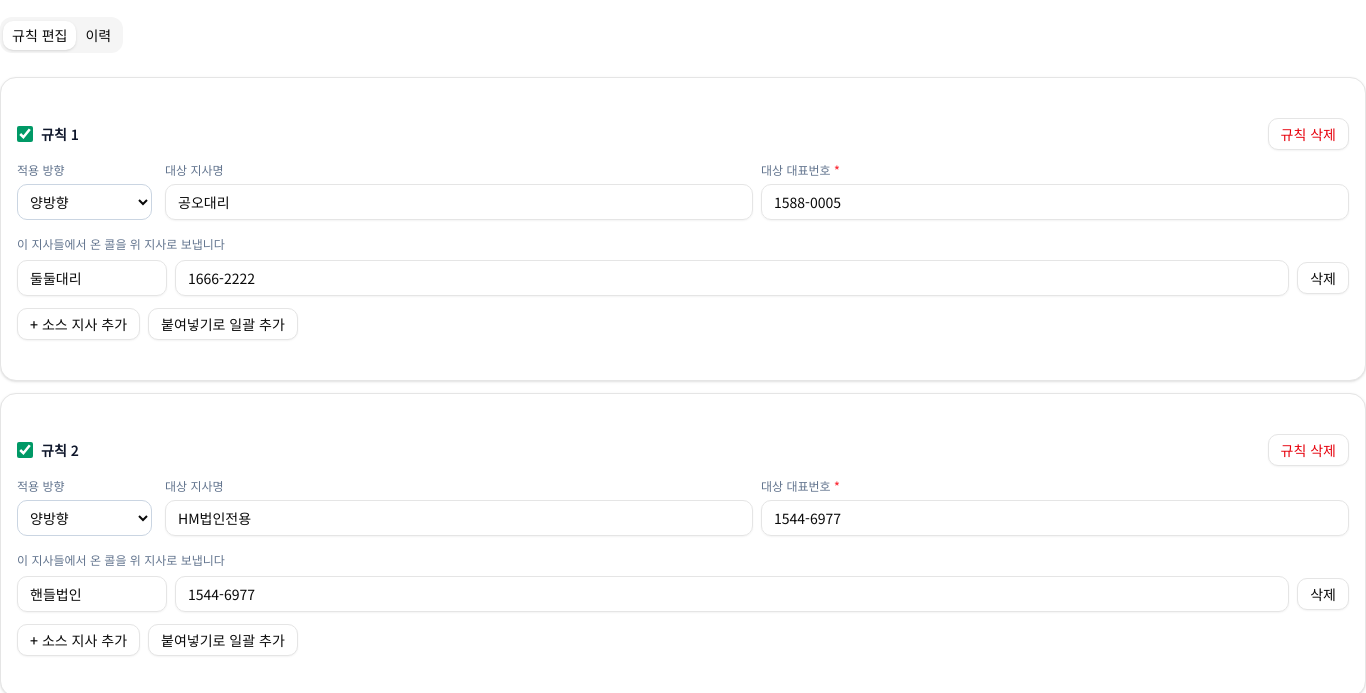
Scenario: JisamapPage — 지사 관리자 › 번호가 겹치는 두 규칙도 한쪽을 끄면 저장할 수 있다
Replace the text in the field named "규칙 2 소스 1 번호" with "1666-2222" at (732, 594), box [175, 576, 1289, 612]
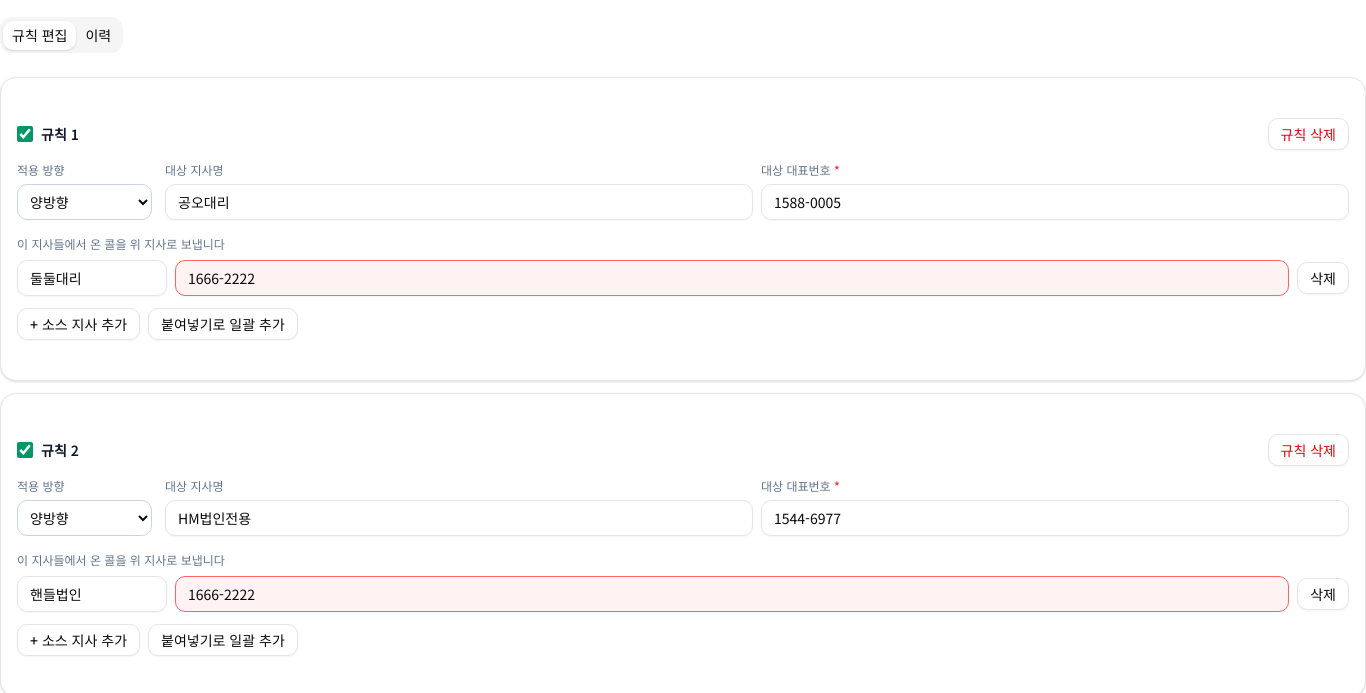
Note: 겹치는 한쪽을 끄면 모호함이 사라지므로 저장이 풀린다 — 이 기능의 주 용도.
Click the checkbox with test id "rule-enabled-1".
click(25, 450)  # box [17, 442, 33, 458]
(page scrolled)
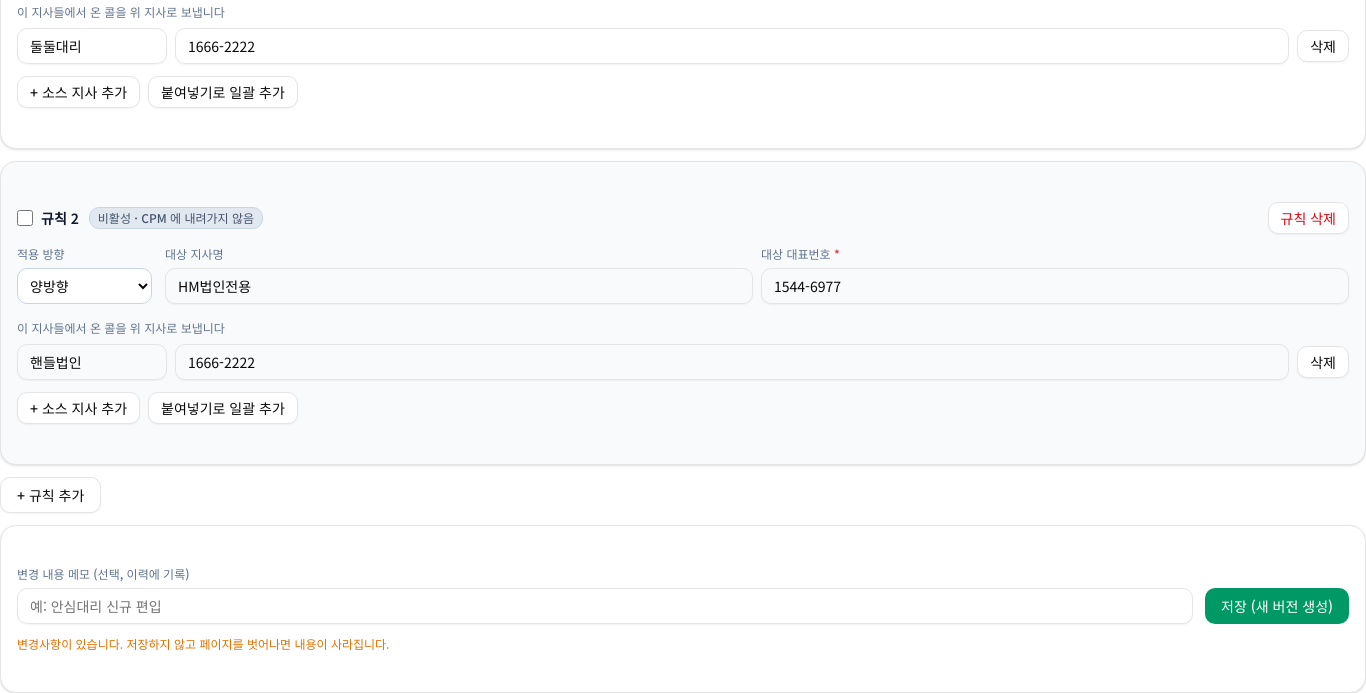
Expected: the button "저장 (새 버전 생성)" is enabled, [1205, 588, 1349, 624]
